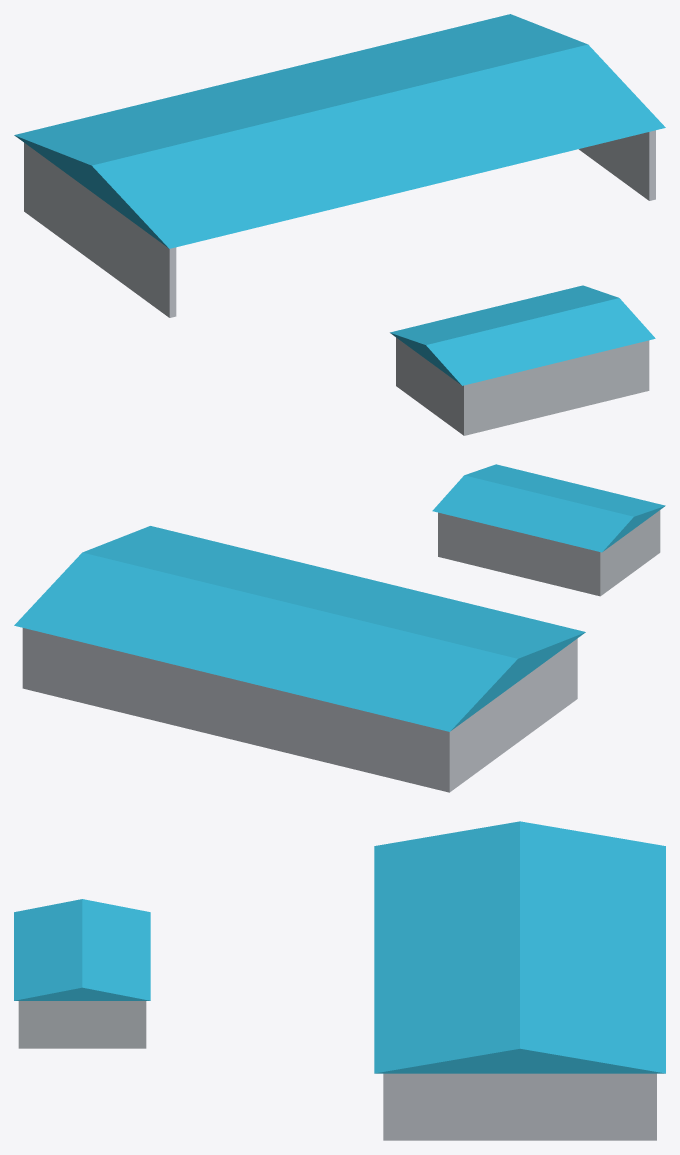
The model's file is bim-plant-s4.glb.
The picture shows the model from 3 angles, top to bottom: view 1: azimuth 30°, elevation 25°; view 2: azimuth 150°, elevation 25°; view 3: azimuth 270°, elevation 25°; orthographic projection. The views are drawn at different scales.
Parts seen in each view (by area): view 1: BinCanopy, BoilerRoof, BoilerHouse, BinWallL, BinWallR; view 2: BinCanopy, BinWallBack, BoilerRoof, BoilerHouse, BinWallL; view 3: BinCanopy, BinWallR, BoilerRoof, BoilerHouse.
Part boxes in pixels (x1=…): BinCanopy: x1=14, y1=14, x2=665, y2=248; BoilerRoof: x1=390, y1=285, x2=655, y2=385; BoilerHouse: x1=396, y1=337, x2=649, y2=435; BinWallL: x1=24, y1=143, x2=176, y2=317; BinWallR: x1=579, y1=130, x2=655, y2=200; BinCanopy: x1=14, y1=526, x2=585, y2=731; BinWallBack: x1=23, y1=629, x2=448, y2=792; BoilerRoof: x1=432, y1=464, x2=665, y2=552; BoilerHouse: x1=438, y1=510, x2=660, y2=596; BinWallL: x1=443, y1=638, x2=577, y2=792; BinCanopy: x1=374, y1=821, x2=665, y2=1073; BinWallR: x1=383, y1=1073, x2=656, y2=1140; BoilerRoof: x1=14, y1=899, x2=150, y2=1000; BoilerHouse: x1=18, y1=1001, x2=146, y2=1048.
Size of the model in its own units: 59 by 11.4 by 71.5.
